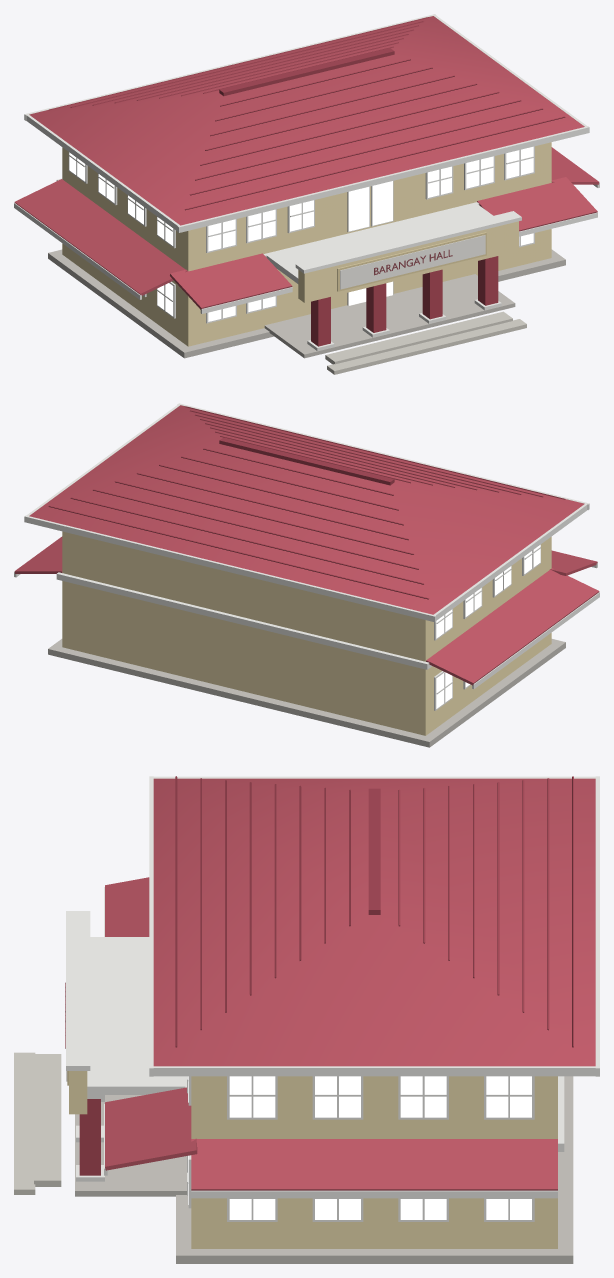
Rendered from BarangayHall_Core.fbx.
3 views of the same model, one above another, from view 1: azimuth 30°, elevation 25°; view 2: azimuth 150°, elevation 25°; view 3: azimuth 270°, elevation 25° (orthographic). The views are drawn at different scales.
Parts seen in each view (by area): view 1: Roof, WallUpper, WallGround, AwningSide, PorticoFloor, AwningFront, BaseSlab, PorticoSlab, AwningFront.001, Fascia, EaveTrimF, SignBoard (+34 smaller); view 2: Roof, WallGround, WallUpper, AwningSide, BaseSlab, EaveTrimB, Slab2Band, RidgeCap, EaveTrimL, AwningSide.001, EaveTrimF, AwningTrimS (+14 smaller); view 3: Roof, AwningSide.001, WallUpper, WallGround, PorticoSlab, BaseSlab, AwningFront.001, EaveTrimR, FasciaCap, PorticoFloor, Step1, AwningTrimS.001 (+21 smaller).
Part boxes in pixels (left/top/right/bottom): Roof: left=29, top=16, right=584, bottom=225; WallUpper: left=62, top=142, right=551, bottom=271; WallGround: left=62, top=229, right=551, bottom=346; AwningSide: left=14, top=179, right=187, bottom=295; PorticoFloor: left=264, top=274, right=515, bottom=358; AwningFront: left=170, top=253, right=292, bottom=309; BaseSlab: left=48, top=249, right=565, bottom=358; PorticoSlab: left=266, top=204, right=493, bottom=283; AwningFront.001: left=477, top=177, right=597, bottom=231; Fascia: left=298, top=221, right=518, bottom=302; EaveTrimF: left=177, top=126, right=589, bottom=232; SignBoard: left=340, top=235, right=485, bottom=289; Roof: left=29, top=405, right=584, bottom=614; WallGround: left=62, top=581, right=551, bottom=735; WallUpper: left=62, top=531, right=551, bottom=661; AwningSide: left=426, top=568, right=599, bottom=685; BaseSlab: left=48, top=639, right=565, bottom=747; EaveTrimB: left=24, top=515, right=436, bottom=622; Slab2Band: left=56, top=572, right=431, bottom=669; RidgeCap: left=219, top=437, right=394, bottom=485; EaveTrimL: left=433, top=503, right=587, bottom=620; AwningSide.001: left=14, top=536, right=62, bottom=573; EaveTrimF: left=177, top=403, right=589, bottom=509; AwningTrimS: left=472, top=592, right=599, bottom=688; Roof: left=153, top=778, right=595, bottom=1066; AwningSide.001: left=191, top=1139, right=557, bottom=1190; WallUpper: left=191, top=1076, right=557, bottom=1138; WallGround: left=191, top=1198, right=557, bottom=1248; PorticoSlab: left=87, top=937, right=185, bottom=1094; BaseSlab: left=176, top=1076, right=573, bottom=1263; AwningFront.001: left=105, top=1087, right=197, bottom=1170; EaveTrimR: left=151, top=1066, right=595, bottom=1076; FasciaCap: left=66, top=911, right=90, bottom=1070; PorticoFloor: left=75, top=1095, right=186, bottom=1196; Step1: left=34, top=1054, right=61, bottom=1186; AwningTrimS.001: left=191, top=1190, right=557, bottom=1198.
Bounding box in the file's own units: 25.32 × 10.07 × 19.17.
